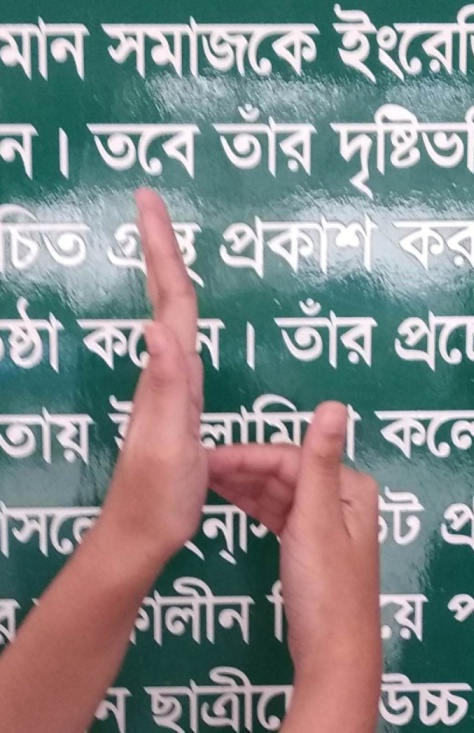ga: (113, 174, 383, 616)
